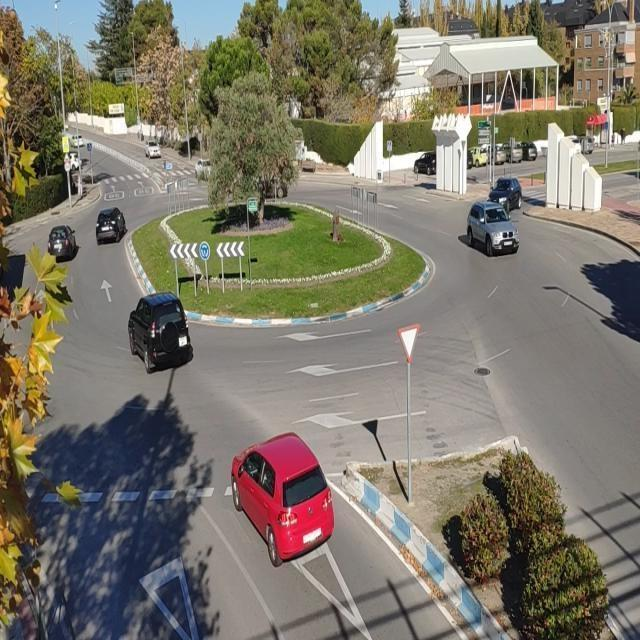Car: (229, 436, 336, 566), (114, 294, 199, 376), (461, 203, 522, 261), (37, 215, 80, 267), (478, 176, 525, 220), (93, 203, 128, 246), (134, 130, 172, 165), (188, 150, 219, 184)
